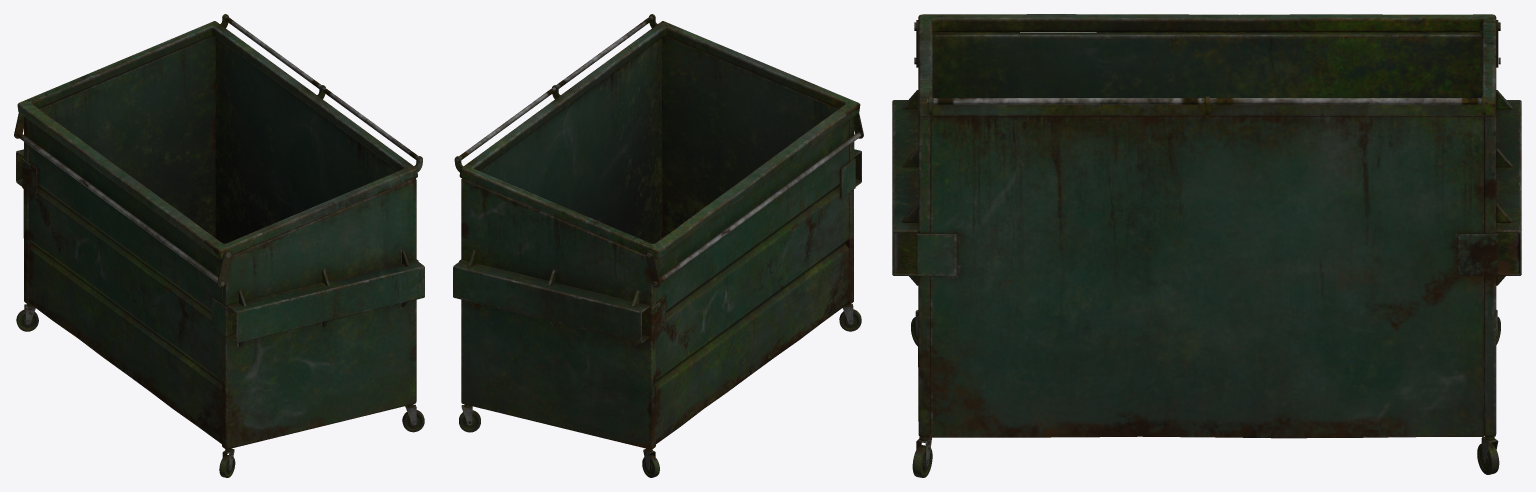
File: SM_PAD_Dumpster_Base_Overgrown_c1_LOD0.fbx
3 views of the same model, side by side, from view 1: azimuth 30°, elevation 25°; view 2: azimuth 150°, elevation 25°; view 3: azimuth 270°, elevation 25° (orthographic). The views are drawn at different scales.
Parts seen in each view (by area): view 1: SM_PAD_Dumpster_Base_Overgrown_c1_LOD0_LOD0; view 2: SM_PAD_Dumpster_Base_Overgrown_c1_LOD0_LOD0; view 3: SM_PAD_Dumpster_Base_Overgrown_c1_LOD0_LOD0.
Part boxes in pixels (bbox=[...]): SM_PAD_Dumpster_Base_Overgrown_c1_LOD0_LOD0: bbox=[14, 14, 424, 477]; SM_PAD_Dumpster_Base_Overgrown_c1_LOD0_LOD0: bbox=[453, 14, 863, 477]; SM_PAD_Dumpster_Base_Overgrown_c1_LOD0_LOD0: bbox=[892, 14, 1521, 477].
Bounding box in the file's own units: 127 × 232 × 157.
